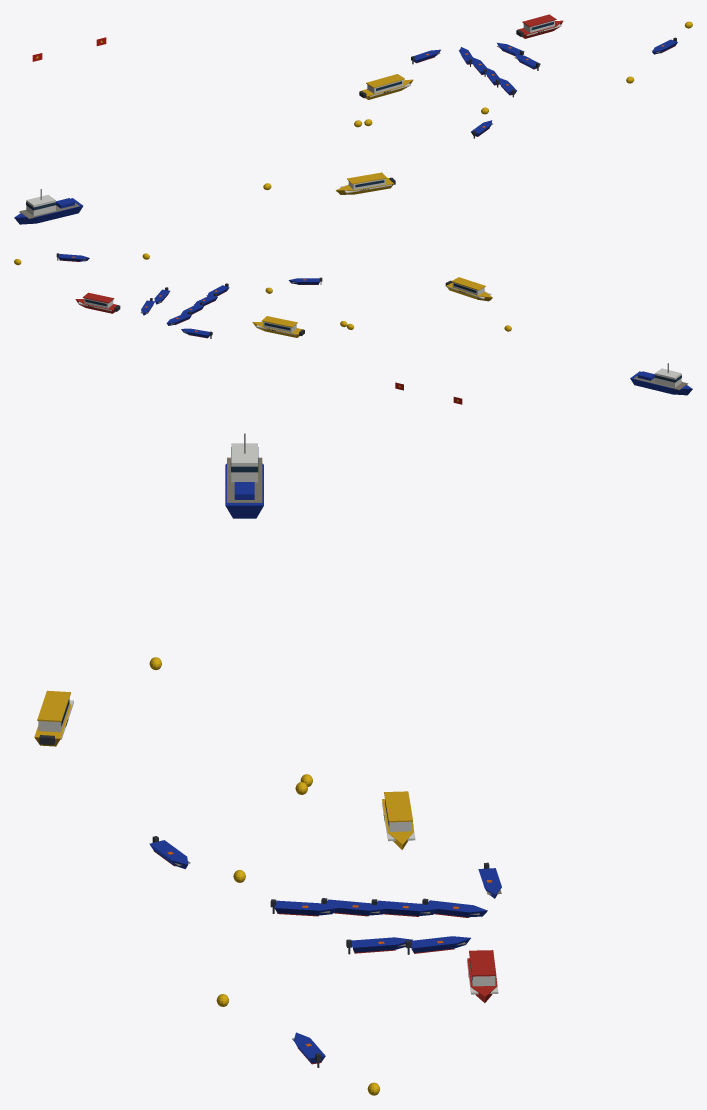
Rendered from cang_van_gia_dong.glb.
The picture shows the model from 3 angles, top to bottom: view 1: azimuth 30°, elevation 25°; view 2: azimuth 150°, elevation 25°; view 3: azimuth 270°, elevation 25°; orthographic projection. The views are drawn at different scales.
Parts seen in each view (by area): view 1: Tau_cong_tac, Tau_Vinh_Thuc_06, Tau_Vinh_Thuc_08, Tau_Khanh_Hai; view 2: Tau_cong_tac, Tau_Vinh_Thuc_08, Tau_Vinh_Thuc_06, Tau_Khanh_Hai; view 3: Tau_cong_tac, Tau_Vinh_Thuc_06, Tau_Vinh_Thuc_08, Tau_Khanh_Hai.
Part boxes in pixels (box(x1,y1,x2,y2)): Tau_cong_tac: box(14, 189, 83, 224); Tau_Vinh_Thuc_06: box(336, 172, 395, 194); Tau_Vinh_Thuc_08: box(359, 74, 413, 99); Tau_Khanh_Hai: box(516, 14, 563, 38); Tau_cong_tac: box(630, 363, 692, 395); Tau_Vinh_Thuc_08: box(252, 316, 304, 337); Tau_Vinh_Thuc_06: box(445, 277, 492, 301); Tau_Khanh_Hai: box(75, 292, 120, 313); Tau_cong_tac: box(225, 433, 263, 518); Tau_Vinh_Thuc_06: box(34, 690, 73, 746); Tau_Vinh_Thuc_08: box(382, 791, 415, 849); Tau_Khanh_Hai: box(467, 950, 498, 1002).
Bounding box in the file's own units: 178 × 12.5 × 76.11.
